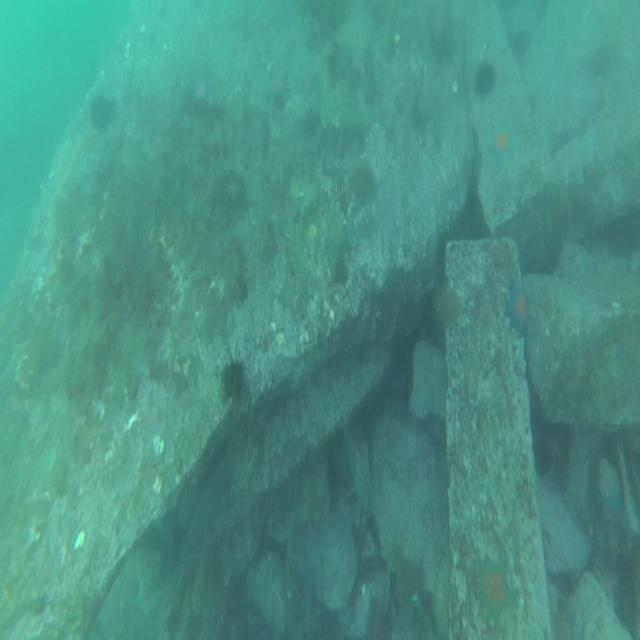echinus: (525, 188, 562, 271), (222, 353, 248, 398), (348, 162, 377, 202), (433, 287, 461, 324), (88, 94, 112, 130), (473, 61, 495, 94)
starfish: (471, 549, 523, 617), (600, 482, 622, 538), (508, 280, 530, 332), (487, 118, 515, 158), (324, 215, 350, 256)
